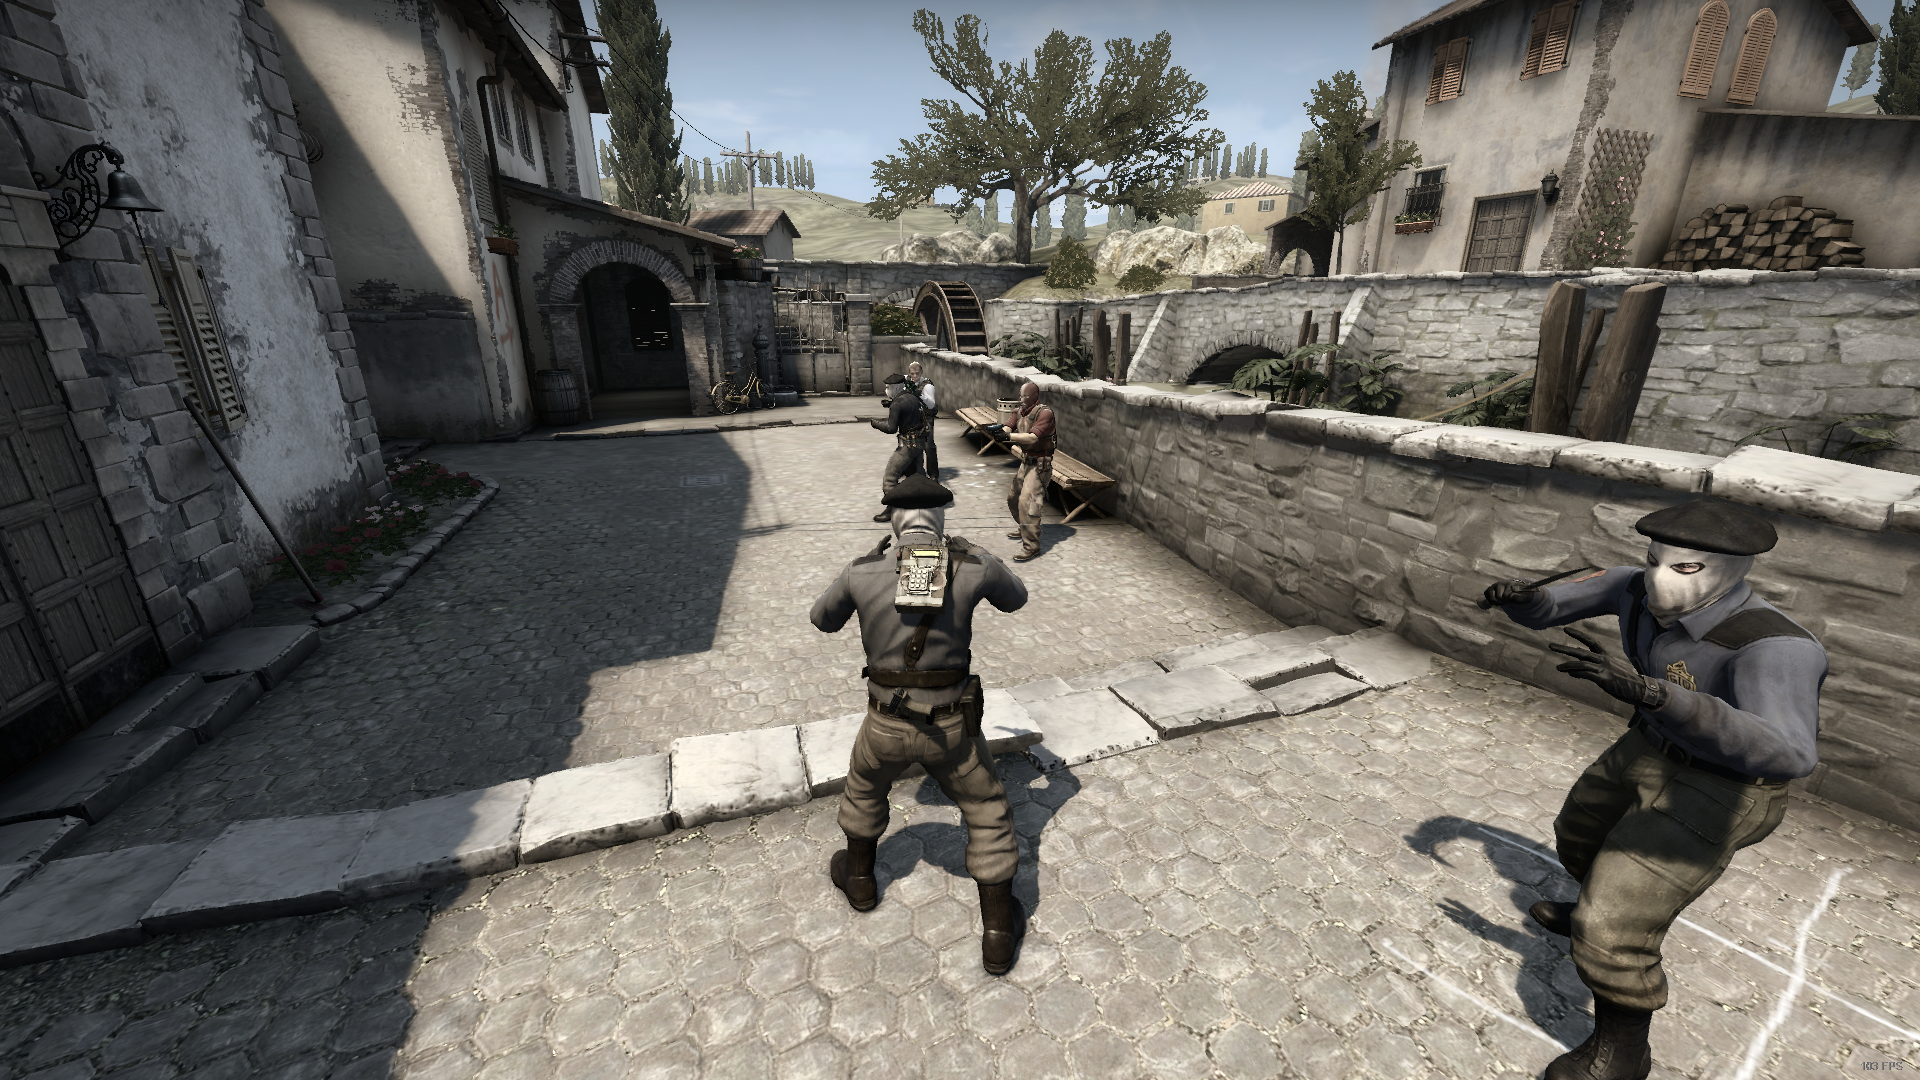t: (1480, 492, 1871, 1080), (796, 472, 1056, 982)
